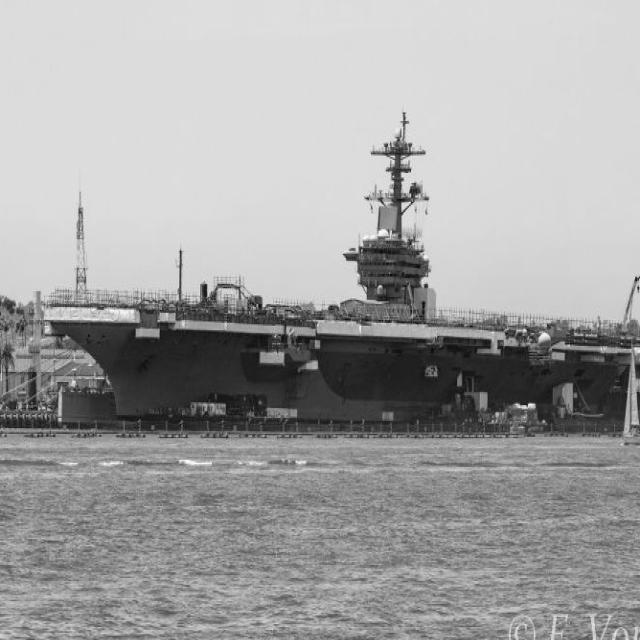Portanaves: (40, 108, 640, 431)
